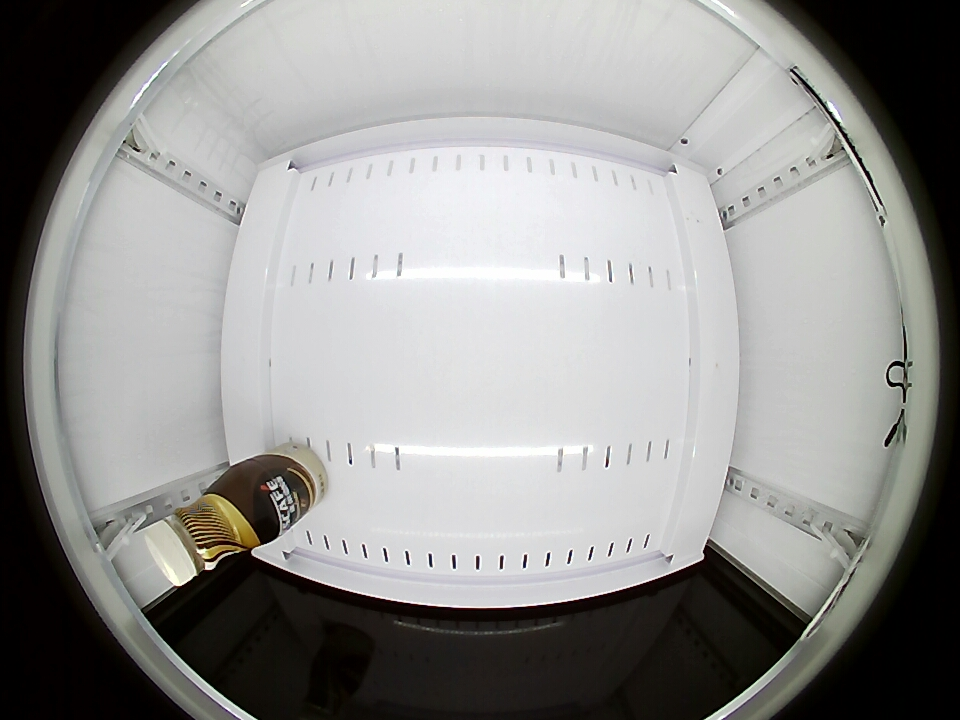kafei: (146, 473, 273, 587)
